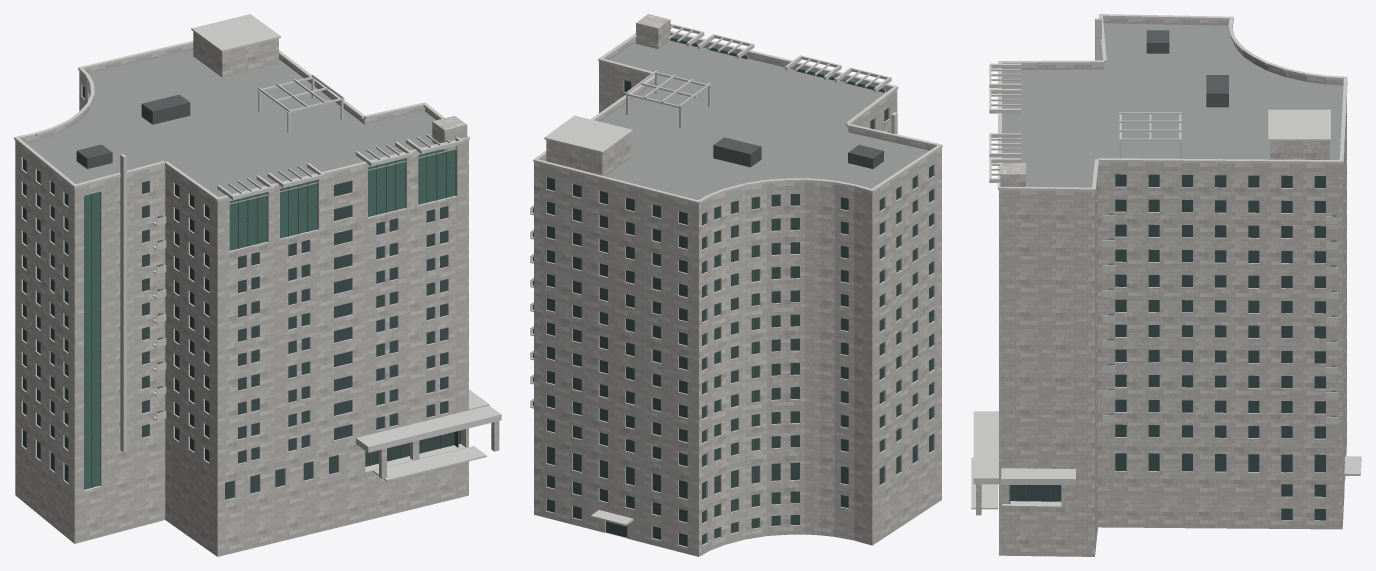
The picture shows the model from 3 angles, left to right: view 1: azimuth 30°, elevation 25°; view 2: azimuth 150°, elevation 25°; view 3: azimuth 270°, elevation 25°; orthographic projection. The views are drawn at different scales.
Visible parts, largest first — view 1: itbt__stone, itbt__roof, itbt__trim, itbt__glass, itbt__glassGreen, itbt__frame; view 2: itbt__stone, itbt__roof, itbt__glass, itbt__trim, itbt__frame; view 3: itbt__stone, itbt__roof, itbt__trim, itbt__glass, itbt__frame.
Part boxes in pixels (x1,y1,x2,y2): itbt__stone: (15,32,499,556); itbt__roof: (26,49,456,204); itbt__trim: (14,14,501,500); itbt__glass: (23,86,460,499); itbt__glassGreen: (84,149,455,489); itbt__frame: (76,94,460,488); itbt__stone: (534,14,941,556); itbt__roof: (545,40,929,199); itbt__glass: (546,80,933,546); itbt__trim: (530,24,942,547); itbt__frame: (533,39,884,406); itbt__stone: (976,18,1346,556); itbt__roof: (1002,23,1343,187); itbt__trim: (971,14,1361,521); itbt__glass: (1010,174,1325,520); itbt__frame: (1009,30,1336,503).
Size of the model in its own units: 58.49 by 57.33 by 52.28.
7 materials, 1 textured.
